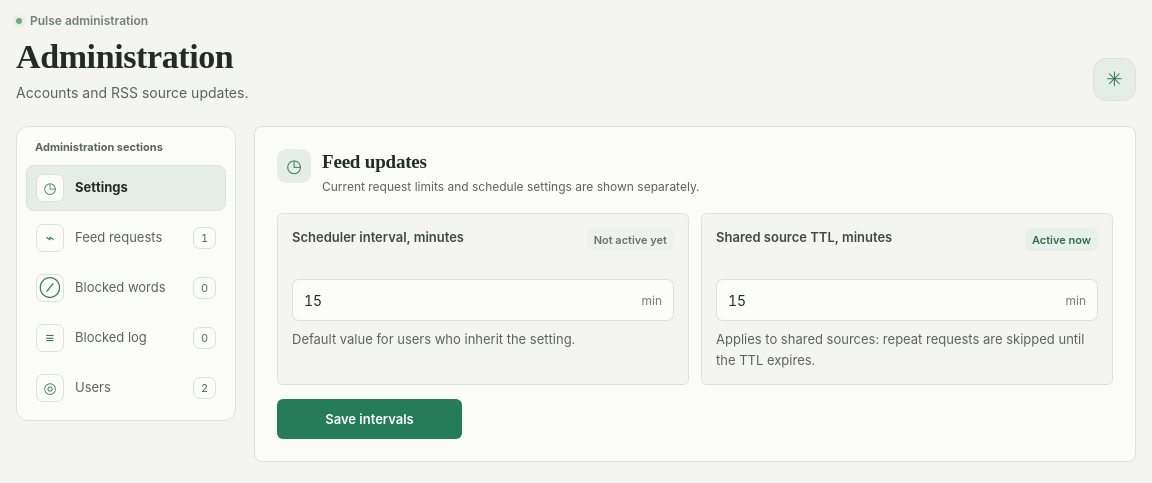
Test: AdminPanel › allows administrators to approve pending feed URLs
Step 1. Click the button "⌁ Feed requests 1" → (126, 238), box [26, 215, 226, 261]
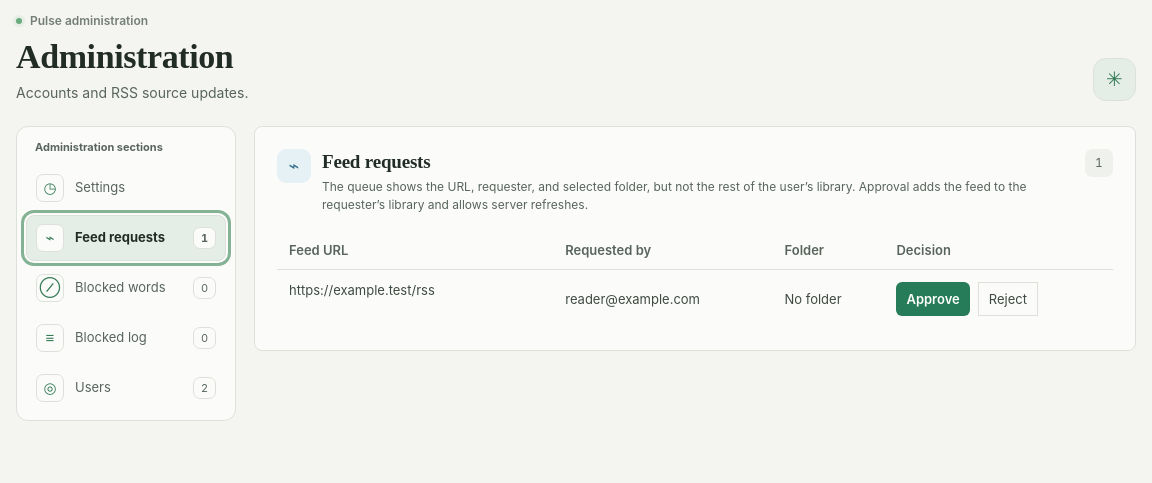
Check: the link "https://example.test/rss" is shown, box [289, 282, 435, 298]
Step 2. Click the button "Approve" → (933, 300), box [896, 282, 970, 316]
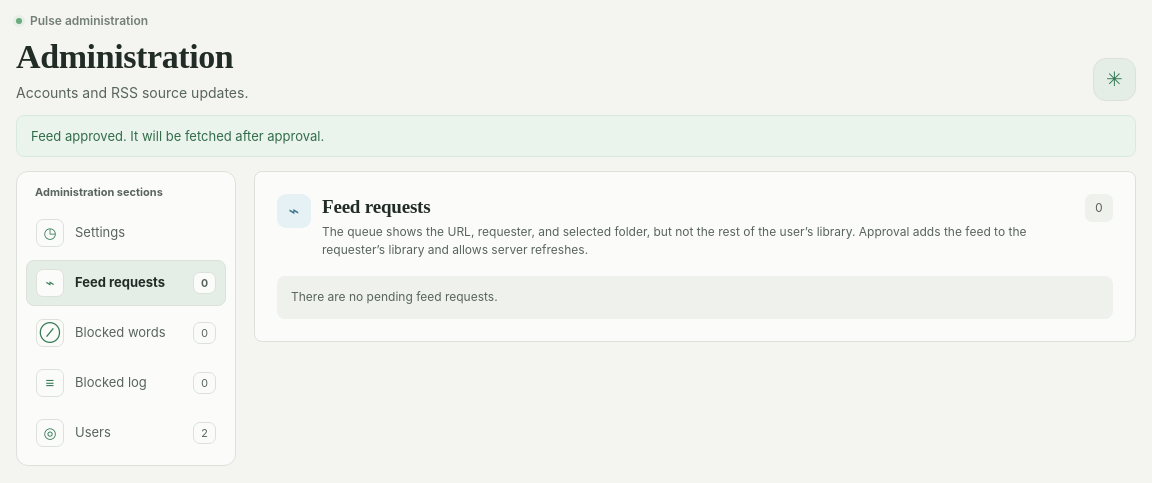
Check: the text "Feed approved. It will be fetched after approval." is shown, box [16, 115, 1136, 157]
